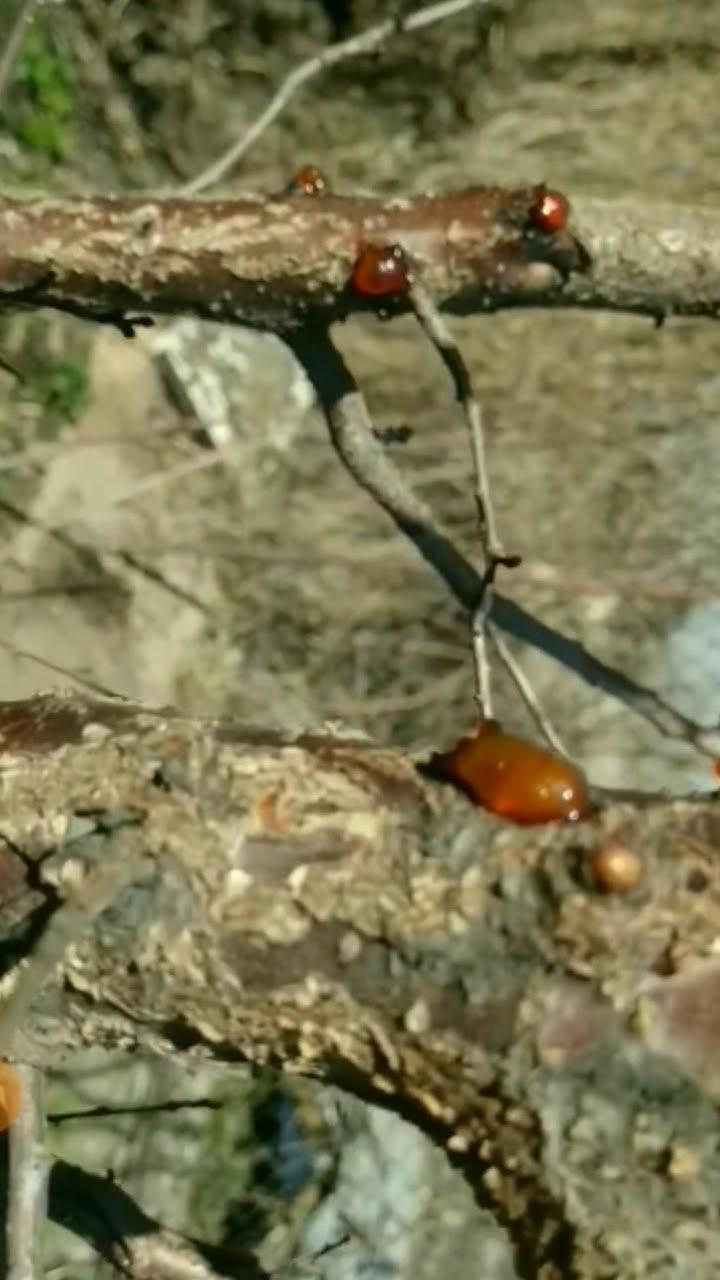gommosis: (427, 720, 589, 824), (351, 244, 407, 296), (590, 839, 642, 892), (531, 189, 568, 232), (291, 165, 325, 194)
